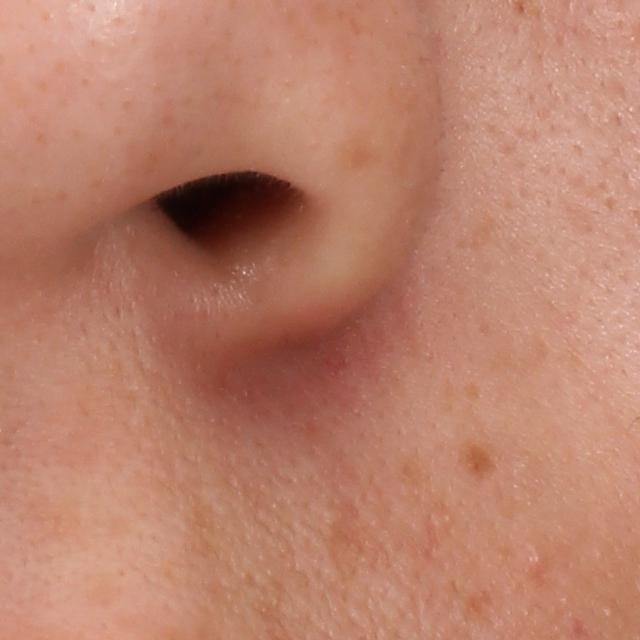comedo: (523, 544, 548, 575)
melasma: (456, 444, 502, 479)
